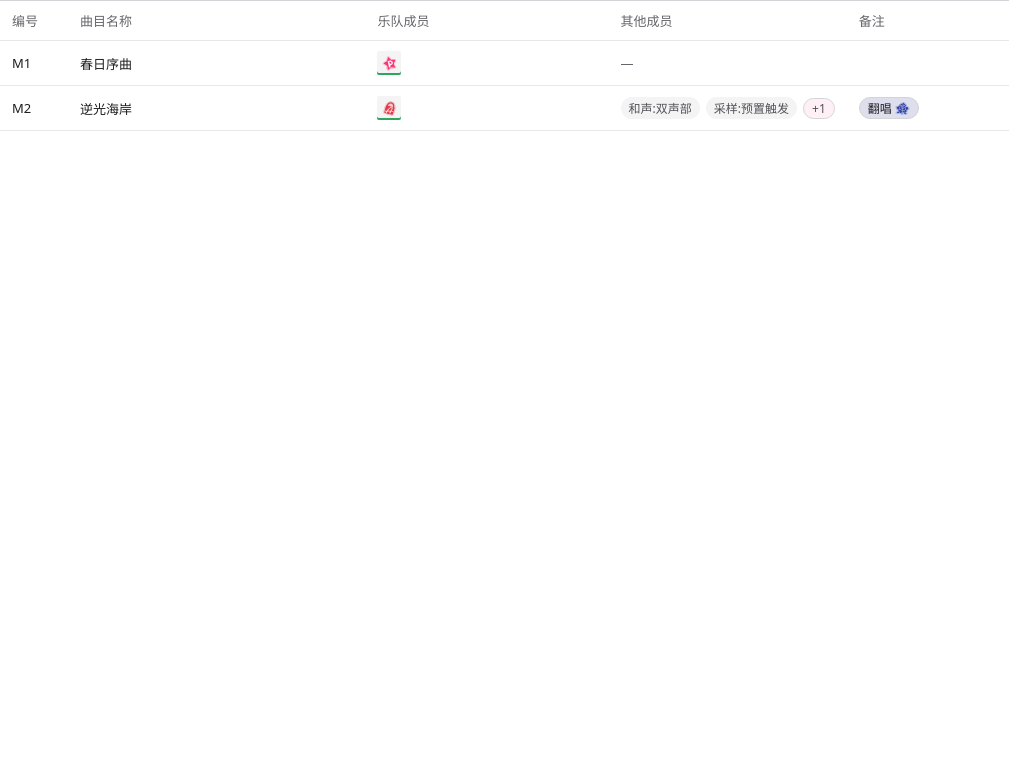
Test: MemberStatusTable › 乐队成员单元格点击后可打开“参加队员”二级详情
The image size is (1024, 768).
Click the button titled "点击查看参加队员" in the row of "M1" at (389, 63), box [377,51,401,75]
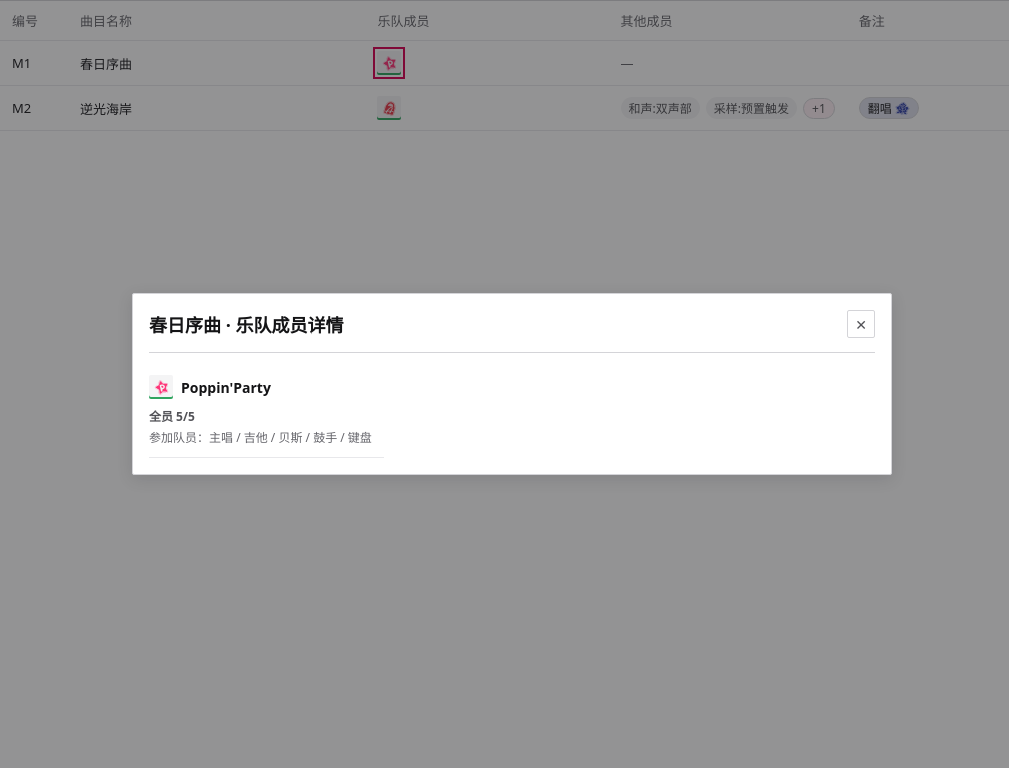
Now the heading "春日序曲 · 乐队成员详情" is shown, box [149,311,344,337]
Now the button named "关闭乐队详情" is shown, box [847,310,875,338]
